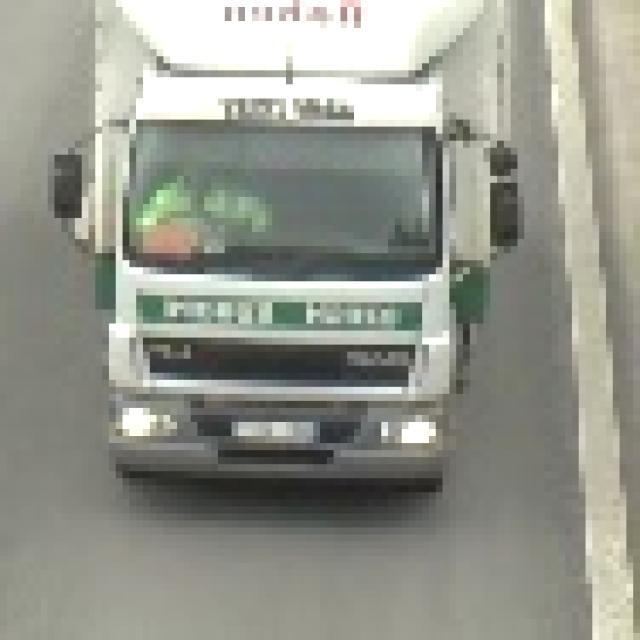truck: (41, 1, 511, 521)
